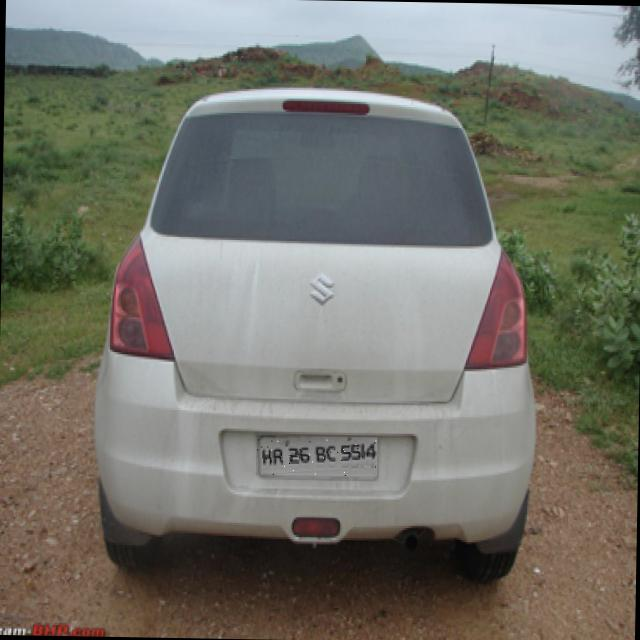Plate: (256, 436, 378, 478)
